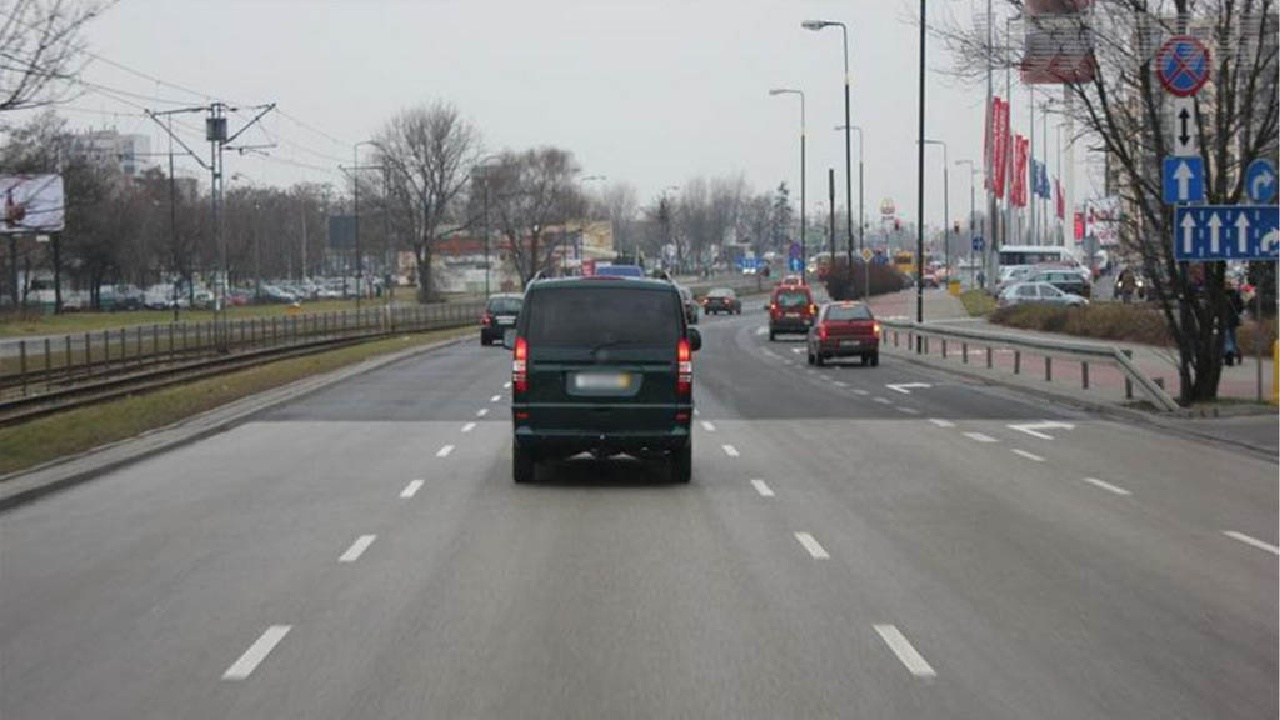B36: (1155, 36, 1210, 95)
C2: (1247, 159, 1276, 204)
D3: (1163, 156, 1204, 202)
